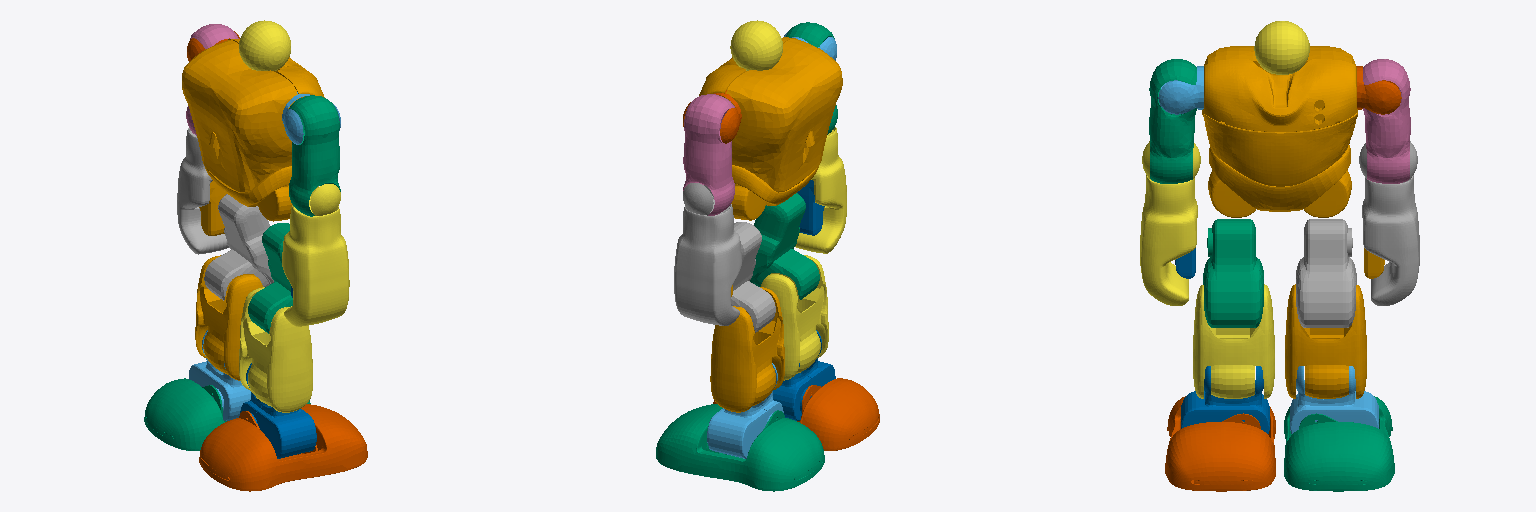
URDF robot description (alpha2):
<?xml version='1.0' encoding='us-ascii'?>
<robot name="alpha2">
  <link name="base_link">
    <inertial>
      <origin xyz="-0.00695734 6.2272e-05 0.0537448" rpy="0 0 0" />
      <mass value="0.42377" />
      <inertia ixx="6.0572e-04" ixy="-7.8223e-07" ixz="4.9743e-05" iyy="5.5233e-04" iyz="-2.4678e-07" izz="4.8452e-04" />
    </inertial>
    <visual>
      <origin xyz="0 0 0" rpy="0 0 0" />
      <geometry><mesh filename="./meshes_view/base_link.obj" /></geometry>
    </visual>
    <collision>
      <origin xyz="0 0 0" rpy="0 0 0" />
      <geometry><mesh filename="./meshes_view/base_link.stl" /></geometry>
    </collision>
  </link>
  <link name="r_shoulder_pitch_link">
    <inertial>
      <origin xyz="-9.69007e-05 0.00168751 -7.31857e-05" rpy="0 0 0" />
      <mass value="0.05261" />
      <inertia ixx="2.7041e-06" ixy="7.1916e-10" ixz="-1.9766e-09" iyy="2.0923e-06" iyz="4.5496e-09" izz="3.3369e-06" />
    </inertial>
    <visual>
      <origin xyz="0 0 0" rpy="0 0 0" />
      <geometry><mesh filename="./meshes_view/r_shoulder_pitch_link.obj" /></geometry>
    </visual>
    <collision>
      <origin xyz="0 0 0" rpy="0 0 0" />
      <geometry><mesh filename="./meshes_view/r_shoulder_pitch_link.stl" /></geometry>
    </collision>
  </link>
  
  <joint name="r_shoulder_pitch_joint" type="revolute">
    <parent link="base_link" />
    <child link="r_shoulder_pitch_link" />
    <origin xyz="0.00853421 -0.0751493 0.0823553" rpy="0 0 0" />
    <axis xyz="0 1 0" />
    <limit lower="-2.18166" upper="1.83260" effort="1.5" velocity="5.0" />
    <dynamics damping="0.05" friction="0.01" />
  </joint>
  <link name="r_shoulder_roll_link">
    <inertial>
      <origin xyz="0.000179782 -0.000686967 -0.0122808" rpy="0 0 0" />
      <mass value="0.07270" />
      <inertia ixx="3.7248e-05" ixy="1.6026e-08" ixz="2.0979e-08" iyy="3.6873e-05" iyz="-1.8396e-06" izz="6.0601e-06" />
    </inertial>
    <visual>
      <origin xyz="0 0 0" rpy="0 0 0" />
      <geometry><mesh filename="./meshes_view/r_shoulder_roll_link.obj" /></geometry>
    </visual>
    <collision>
      <origin xyz="0 0 0" rpy="0 0 0" />
      <geometry><mesh filename="./meshes_view/r_shoulder_roll_link.stl" /></geometry>
    </collision>
  </link>
  
  <joint name="r_shoulder_roll_joint" type="revolute">
    <parent link="r_shoulder_pitch_link" />
    <child link="r_shoulder_roll_link" />
    <origin xyz="-0.000936512 -0.000282395 -0.000471802" rpy="0 0 0" />
    <axis xyz="1 0 0" />
    <limit lower="-2.79253" upper="0.00000" effort="1.5" velocity="5.0" />
    <dynamics damping="0.05" friction="0.01" />
  </joint>
  <link name="r_elbow_link">
    <inertial>
      <origin xyz="-0.000214272 -0.000327578 -0.0300119" rpy="0 0 0" />
      <mass value="0.09679" />
      <inertia ixx="1.2699e-04" ixy="-1.3189e-08" ixz="-6.3118e-07" iyy="1.2786e-04" iyz="-1.9389e-06" izz="1.4446e-05" />
    </inertial>
    <visual>
      <origin xyz="0 0 0" rpy="0 0 0" />
      <geometry><mesh filename="./meshes_view/r_elbow_link.obj" /></geometry>
    </visual>
    <collision>
      <origin xyz="0 0 0" rpy="0 0 0" />
      <geometry><mesh filename="./meshes_view/r_elbow_link.stl" /></geometry>
    </collision>
  </link>
  
  <joint name="r_elbow_joint" type="revolute">
    <parent link="r_shoulder_roll_link" />
    <child link="r_elbow_link" />
    <origin xyz="0.000452387 -0.00483327 -0.0579653" rpy="0 0 0" />
    <axis xyz="0 -1 0" />
    <limit lower="-1.04720" upper="1.22173" effort="1.5" velocity="5.0" />
    <dynamics damping="0.05" friction="0.01" />
  </joint>
  <link name="r_hand_link">
    <inertial>
      <origin xyz="-2.11402e-10 0.000757251 -0.00167969" rpy="0 0 0" />
      <mass value="0.04764" />
      <inertia ixx="2.5262e-06" ixy="1.8442e-14" ixz="1.3892e-13" iyy="2.0373e-06" iyz="4.6415e-07" izz="9.6990e-07" />
    </inertial>
    <visual>
      <origin xyz="0 0 0" rpy="0 0 0" />
      <geometry><mesh filename="./meshes_view/r_hand_link.obj" /></geometry>
    </visual>
    <collision>
      <origin xyz="0 0 0" rpy="0 0 0" />
      <geometry><mesh filename="./meshes_view/r_hand_link.stl" /></geometry>
    </collision>
  </link>
  
  <joint name="r_hand_joint" type="revolute">
    <parent link="r_elbow_link" />
    <child link="r_hand_link" />
    <origin xyz="-0.00276682 0.000360121 -0.0558557" rpy="0 0 0" />
    <axis xyz="-1 0 0" />
    <limit lower="-0.43633" upper="0.08727" effort="1.5" velocity="5.0" />
    <dynamics damping="0.05" friction="0.01" />
  </joint>
  <link name="l_shoulder_pitch_link">
    <inertial>
      <origin xyz="-9.58837e-05 -0.00168757 0.000229636" rpy="0 0 0" />
      <mass value="0.05261" />
      <inertia ixx="2.7122e-06" ixy="-4.1326e-10" ixz="3.0346e-09" iyy="2.1004e-06" iyz="8.3426e-08" izz="3.3369e-06" />
    </inertial>
    <visual>
      <origin xyz="0 0 0" rpy="0 0 0" />
      <geometry><mesh filename="./meshes_view/l_shoulder_pitch_link.obj" /></geometry>
    </visual>
    <collision>
      <origin xyz="0 0 0" rpy="0 0 0" />
      <geometry><mesh filename="./meshes_view/l_shoulder_pitch_link.stl" /></geometry>
    </collision>
  </link>
  
  <joint name="l_shoulder_pitch_joint" type="revolute">
    <parent link="base_link" />
    <child link="l_shoulder_pitch_link" />
    <origin xyz="0.00852983 0.0751493 0.0810614" rpy="0 0 0" />
    <axis xyz="0 -1 0" />
    <limit lower="-1.83260" upper="2.18166" effort="1.5" velocity="5.0" />
    <dynamics damping="0.05" friction="0.01" />
  </joint>
  <link name="l_shoulder_roll_link">
    <inertial>
      <origin xyz="0.000179737 0.000686976 -0.0122806" rpy="0 0 0" />
      <mass value="0.07270" />
      <inertia ixx="3.7248e-05" ixy="-1.6007e-08" ixz="2.0962e-08" iyy="3.6873e-05" iyz="1.8397e-06" izz="6.0601e-06" />
    </inertial>
    <visual>
      <origin xyz="0 0 0" rpy="0 0 0" />
      <geometry><mesh filename="./meshes_view/l_shoulder_roll_link.obj" /></geometry>
    </visual>
    <collision>
      <origin xyz="0 0 0" rpy="0 0 0" />
      <geometry><mesh filename="./meshes_view/l_shoulder_roll_link.stl" /></geometry>
    </collision>
  </link>
  
  <joint name="l_shoulder_roll_joint" type="revolute">
    <parent link="l_shoulder_pitch_link" />
    <child link="l_shoulder_roll_link" />
    <origin xyz="-0.000932146 0.000282394 0.000822052" rpy="0 0 0" />
    <axis xyz="1 0 0" />
    <limit lower="0.00000" upper="2.79253" effort="1.5" velocity="5.0" />
    <dynamics damping="0.05" friction="0.01" />
  </joint>
  <link name="l_elbow_link">
    <inertial>
      <origin xyz="-0.000214255 0.00032756 -0.0300119" rpy="0 0 0" />
      <mass value="0.09679" />
      <inertia ixx="1.2699e-04" ixy="1.3193e-08" ixz="-6.3114e-07" iyy="1.2786e-04" iyz="1.9390e-06" izz="1.4446e-05" />
    </inertial>
    <visual>
      <origin xyz="0 0 0" rpy="0 0 0" />
      <geometry><mesh filename="./meshes_view/l_elbow_link.obj" /></geometry>
    </visual>
    <collision>
      <origin xyz="0 0 0" rpy="0 0 0" />
      <geometry><mesh filename="./meshes_view/l_elbow_link.stl" /></geometry>
    </collision>
  </link>
  
  <joint name="l_elbow_joint" type="revolute">
    <parent link="l_shoulder_roll_link" />
    <child link="l_elbow_link" />
    <origin xyz="0.000452416 0.00483327 -0.0579653" rpy="0 0 0" />
    <axis xyz="0 1 0" />
    <limit lower="-1.39626" upper="0.87266" effort="1.5" velocity="5.0" />
    <dynamics damping="0.05" friction="0.01" />
  </joint>
  <link name="l_hand_link">
    <inertial>
      <origin xyz="0.00329525 -0.000757255 -0.00166766" rpy="0 0 0" />
      <mass value="0.04764" />
      <inertia ixx="2.5156e-06" ixy="6.5294e-07" ixz="1.4379e-06" iyy="4.8681e-06" iyz="-4.6176e-07" izz="3.8111e-06" />
    </inertial>
    <visual>
      <origin xyz="0 0 0" rpy="0 0 0" />
      <geometry><mesh filename="./meshes_view/l_hand_link.obj" /></geometry>
    </visual>
    <collision>
      <origin xyz="0 0 0" rpy="0 0 0" />
      <geometry><mesh filename="./meshes_view/l_hand_link.stl" /></geometry>
    </collision>
  </link>
  
  <joint name="l_hand_joint" type="revolute">
    <parent link="l_elbow_link" />
    <child link="l_hand_link" />
    <origin xyz="-0.0241628 -0.000360123 -0.0559338" rpy="0 0 0" />
    <axis xyz="1 0 0" />
    <limit lower="-0.43633" upper="0.08727" effort="1.5" velocity="5.0" />
    <dynamics damping="0.05" friction="0.01" />
  </joint>
  <link name="r_hip_roll_link">
    <inertial>
      <origin xyz="0.00293013 -1.29545e-06 -0.00697382" rpy="0 0 0" />
      <mass value="0.07747" />
      <inertia ixx="1.7554e-05" ixy="5.7944e-10" ixz="3.3897e-06" iyy="1.8977e-05" iyz="1.6107e-11" izz="7.1847e-06" />
    </inertial>
    <visual>
      <origin xyz="0 0 0" rpy="0 0 0" />
      <geometry><mesh filename="./meshes_view/r_hip_roll_link.obj" /></geometry>
    </visual>
    <collision>
      <origin xyz="0 0 0" rpy="0 0 0" />
      <geometry><mesh filename="./meshes_view/r_hip_roll_link.stl" /></geometry>
    </collision>
  </link>
  
  <joint name="r_hip_roll_joint" type="revolute">
    <parent link="base_link" />
    <child link="r_hip_roll_link" />
    <origin xyz="1.52588e-08 -0.0353277 0.00188553" rpy="0 0 0" />
    <axis xyz="-1 0 0" />
    <limit lower="-0.34907" upper="1.39626" effort="1.5" velocity="5.0" />
    <dynamics damping="0.05" friction="0.01" />
  </joint>
  <link name="r_hip_pitch_link">
    <inertial>
      <origin xyz="0.0013449 0.0042168 -0.0136744" rpy="0 0 0" />
      <mass value="0.09681" />
      <inertia ixx="4.7328e-05" ixy="-6.9466e-07" ixz="2.4771e-06" iyy="4.9695e-05" iyz="6.9381e-06" izz="1.7177e-05" />
    </inertial>
    <visual>
      <origin xyz="0 0 0" rpy="0 0 0" />
      <geometry><mesh filename="./meshes_view/r_hip_pitch_link.obj" /></geometry>
    </visual>
    <collision>
      <origin xyz="0 0 0" rpy="0 0 0" />
      <geometry><mesh filename="./meshes_view/r_hip_pitch_link.stl" /></geometry>
    </collision>
  </link>
  
  <joint name="r_hip_pitch_joint" type="revolute">
    <parent link="r_hip_roll_link" />
    <child link="r_hip_pitch_link" />
    <origin xyz="0.00972791 -0.00802065 -0.0438724" rpy="0 0 0" />
    <axis xyz="0 1 0" />
    <limit lower="-0.95993" upper="2.53073" effort="1.5" velocity="5.0" />
    <dynamics damping="0.05" friction="0.01" />
  </joint>
  <link name="r_knee_link">
    <inertial>
      <origin xyz="0.00079019 0.00484693 -0.0172073" rpy="0 0 0" />
      <mass value="0.10587" />
      <inertia ixx="7.5406e-05" ixy="-4.0426e-07" ixz="1.5768e-06" iyy="6.5065e-05" iyz="8.7855e-06" izz="2.1814e-05" />
    </inertial>
    <visual>
      <origin xyz="0 0 0" rpy="0 0 0" />
      <geometry><mesh filename="./meshes_view/r_knee_link.obj" /></geometry>
    </visual>
    <collision>
      <origin xyz="0 0 0" rpy="0 0 0" />
      <geometry><mesh filename="./meshes_view/r_knee_link.stl" /></geometry>
    </collision>
  </link>
  
  <joint name="r_knee_joint" type="revolute">
    <parent link="r_hip_pitch_link" />
    <child link="r_knee_link" />
    <origin xyz="-0.0117411 0 -0.0525105" rpy="0 0 0" />
    <axis xyz="0 -1 0" />
    <limit lower="-2.00713" upper="1.39626" effort="1.5" velocity="5.0" />
    <dynamics damping="0.05" friction="0.01" />
  </joint>
  <link name="r_ankle_pitch_link">
    <inertial>
      <origin xyz="-0.000219723 0.0022855 -0.00886757" rpy="0 0 0" />
      <mass value="0.08919" />
      <inertia ixx="3.2163e-05" ixy="1.4539e-07" ixz="-4.3003e-07" iyy="2.4535e-05" iyz="1.4269e-06" izz="1.3860e-05" />
    </inertial>
    <visual>
      <origin xyz="0 0 0" rpy="0 0 0" />
      <geometry><mesh filename="./meshes_view/r_ankle_pitch_link.obj" /></geometry>
    </visual>
    <collision>
      <origin xyz="0 0 0" rpy="0 0 0" />
      <geometry><mesh filename="./meshes_view/r_ankle_pitch_link.stl" /></geometry>
    </collision>
  </link>
  
  <joint name="r_ankle_pitch_joint" type="revolute">
    <parent link="r_knee_link" />
    <child link="r_ankle_pitch_link" />
    <origin xyz="5.32532e-06 0 -0.0591983" rpy="0 0 0" />
    <axis xyz="0 -1 0" />
    <limit lower="-1.83260" upper="1.30900" effort="1.5" velocity="5.0" />
    <dynamics damping="0.05" friction="0.01" />
  </joint>
  <link name="r_ankle_roll_link">
    <inertial>
      <origin xyz="0.000326272 -0.0100259 -0.00758217" rpy="0 0 0" />
      <mass value="0.14069" />
      <inertia ixx="5.9503e-05" ixy="1.1368e-06" ixz="4.8165e-07" iyy="1.0262e-04" iyz="-7.0862e-06" izz="1.3503e-04" />
    </inertial>
    <visual>
      <origin xyz="0 0 0" rpy="0 0 0" />
      <geometry><mesh filename="./meshes_view/r_ankle_roll_link.obj" /></geometry>
    </visual>
    <collision>
      <origin xyz="0 0 0" rpy="0 0 0" />
      <geometry><mesh filename="./meshes_view/r_ankle_roll_link.stl" /></geometry>
    </collision>
  </link>
  
  <joint name="r_ankle_roll_joint" type="revolute">
    <parent link="r_ankle_pitch_link" />
    <child link="r_ankle_roll_link" />
    <origin xyz="0.00200788 0.0168256 -0.0369769" rpy="0 0 0" />
    <axis xyz="1 0 0" />
    <limit lower="-0.34907" upper="1.22173" effort="1.5" velocity="5.0" />
    <dynamics damping="0.05" friction="0.01" />
  </joint>
  <link name="l_hip_roll_link">
    <inertial>
      <origin xyz="0.00293011 1.33522e-06 -0.00697379" rpy="0 0 0" />
      <mass value="0.07747" />
      <inertia ixx="1.7553e-05" ixy="-5.9611e-10" ixz="3.3897e-06" iyy="1.8977e-05" iyz="-5.8296e-11" izz="7.1846e-06" />
    </inertial>
    <visual>
      <origin xyz="0 0 0" rpy="0 0 0" />
      <geometry><mesh filename="./meshes_view/l_hip_roll_link.obj" /></geometry>
    </visual>
    <collision>
      <origin xyz="0 0 0" rpy="0 0 0" />
      <geometry><mesh filename="./meshes_view/l_hip_roll_link.stl" /></geometry>
    </collision>
  </link>
  
  <joint name="l_hip_roll_joint" type="revolute">
    <parent link="base_link" />
    <child link="l_hip_roll_link" />
    <origin xyz="7.62939e-09 0.0353277 0.00188553" rpy="0 0 0" />
    <axis xyz="-1 0 0" />
    <limit lower="-1.43117" upper="0.31416" effort="1.5" velocity="5.0" />
    <dynamics damping="0.05" friction="0.01" />
  </joint>
  <link name="l_hip_pitch_link">
    <inertial>
      <origin xyz="0.00134489 -0.0042168 -0.0136745" rpy="0 0 0" />
      <mass value="0.09681" />
      <inertia ixx="4.7328e-05" ixy="6.9467e-07" ixz="2.4771e-06" iyy="4.9694e-05" iyz="-6.9381e-06" izz="1.7177e-05" />
    </inertial>
    <visual>
      <origin xyz="0 0 0" rpy="0 0 0" />
      <geometry><mesh filename="./meshes_view/l_hip_pitch_link.obj" /></geometry>
    </visual>
    <collision>
      <origin xyz="0 0 0" rpy="0 0 0" />
      <geometry><mesh filename="./meshes_view/l_hip_pitch_link.stl" /></geometry>
    </collision>
  </link>
  
  <joint name="l_hip_pitch_joint" type="revolute">
    <parent link="l_hip_roll_link" />
    <child link="l_hip_pitch_link" />
    <origin xyz="0.00972792 0.00802064 -0.0438723" rpy="0 0 0" />
    <axis xyz="0 -1 0" />
    <limit lower="-2.53073" upper="0.95993" effort="1.5" velocity="5.0" />
    <dynamics damping="0.05" friction="0.01" />
  </joint>
  <link name="l_knee_link">
    <inertial>
      <origin xyz="0.00079021 -0.00484695 -0.0172073" rpy="0 0 0" />
      <mass value="0.10587" />
      <inertia ixx="7.5406e-05" ixy="4.0427e-07" ixz="1.5769e-06" iyy="6.5065e-05" iyz="-8.7855e-06" izz="2.1814e-05" />
    </inertial>
    <visual>
      <origin xyz="0 0 0" rpy="0 0 0" />
      <geometry><mesh filename="./meshes_view/l_knee_link.obj" /></geometry>
    </visual>
    <collision>
      <origin xyz="0 0 0" rpy="0 0 0" />
      <geometry><mesh filename="./meshes_view/l_knee_link.stl" /></geometry>
    </collision>
  </link>
  
  <joint name="l_knee_joint" type="revolute">
    <parent link="l_hip_pitch_link" />
    <child link="l_knee_link" />
    <origin xyz="-0.0117411 1.39965e-09 -0.0525105" rpy="0 0 0" />
    <axis xyz="0 1 0" />
    <limit lower="-1.39626" upper="2.00713" effort="1.5" velocity="5.0" />
    <dynamics damping="0.05" friction="0.01" />
  </joint>
  <link name="l_ankle_pitch_link">
    <inertial>
      <origin xyz="-0.000219719 -0.00228551 -0.00879294" rpy="0 0 0" />
      <mass value="0.08919" />
      <inertia ixx="3.1992e-05" ixy="-1.4538e-07" ixz="-4.2791e-07" iyy="2.4364e-05" iyz="-1.4048e-06" izz="1.3860e-05" />
    </inertial>
    <visual>
      <origin xyz="0 0 0" rpy="0 0 0" />
      <geometry><mesh filename="./meshes_view/l_ankle_pitch_link.obj" /></geometry>
    </visual>
    <collision>
      <origin xyz="0 0 0" rpy="0 0 0" />
      <geometry><mesh filename="./meshes_view/l_ankle_pitch_link.stl" /></geometry>
    </collision>
  </link>
  
  <joint name="l_ankle_pitch_joint" type="revolute">
    <parent link="l_knee_link" />
    <child link="l_ankle_pitch_link" />
    <origin xyz="5.35583e-06 -6.38468e-13 -0.0593814" rpy="0 0 0" />
    <axis xyz="0 1 0" />
    <limit lower="-1.30900" upper="1.83260" effort="1.5" velocity="5.0" />
    <dynamics damping="0.05" friction="0.01" />
  </joint>
  <link name="l_ankle_roll_link">
    <inertial>
      <origin xyz="0.000327938 0.0100278 -0.00758019" rpy="0 0 0" />
      <mass value="0.14066" />
      <inertia ixx="5.9495e-05" ixy="-1.1337e-06" ixz="4.8455e-07" iyy="1.0253e-04" iyz="7.0896e-06" izz="1.3495e-04" />
    </inertial>
    <visual>
      <origin xyz="0 0 0" rpy="0 0 0" />
      <geometry><mesh filename="./meshes_view/l_ankle_roll_link.obj" /></geometry>
    </visual>
    <collision>
      <origin xyz="0 0 0" rpy="0 0 0" />
      <geometry><mesh filename="./meshes_view/l_ankle_roll_link.stl" /></geometry>
    </collision>
  </link>
  
  <joint name="l_ankle_roll_joint" type="revolute">
    <parent link="l_ankle_pitch_link" />
    <child link="l_ankle_roll_link" />
    <origin xyz="0.00200786 -0.0168256 -0.0367939" rpy="0 0 0" />
    <axis xyz="1 0 0" />
    <limit lower="-1.22173" upper="0.34907" effort="1.5" velocity="5.0" />
    <dynamics damping="0.05" friction="0.01" />
  </joint>
  <link name="head_yaw_link">
    <inertial>
      <origin xyz="-4.99536e-10 -2.09224e-05 8.70789e-10" rpy="0 0 0" />
      <mass value="0.05123" />
      <inertia ixx="1.7989e-06" ixy="3.4591e-13" ixz="3.5406e-13" iyy="1.7930e-06" iyz="-3.6802e-13" izz="1.7989e-06" />
    </inertial>
    <visual>
      <origin xyz="0 0 0" rpy="0 0 0" />
      <geometry><mesh filename="./meshes_view/head_yaw_link.obj" /></geometry>
    </visual>
    <collision>
      <origin xyz="0 0 0" rpy="0 0 0" />
      <geometry><mesh filename="./meshes_view/head_yaw_link.stl" /></geometry>
    </collision>
  </link>
  
  <joint name="head_yaw_joint" type="revolute">
    <parent link="base_link" />
    <child link="head_yaw_link" />
    <origin xyz="0.0100771 0.00165642 0.115073" rpy="0 0 0" />
    <axis xyz="0 0 -1" />
    <limit lower="-0.78540" upper="0.78540" effort="1.5" velocity="5.0" />
    <dynamics damping="0.05" friction="0.01" />
  </joint>
  <link name="head_pitch_link">
    <inertial>
      <origin xyz="0.00142943 -0.0016621 0.038033" rpy="0 0 0" />
      <mass value="0.26548" />
      <inertia ixx="3.7061e-04" ixy="2.4509e-06" ixz="2.7567e-06" iyy="3.5697e-04" iyz="-1.5211e-05" izz="2.6951e-04" />
    </inertial>
    <visual>
      <origin xyz="0 0 0" rpy="0 0 0" />
      <geometry><mesh filename="./meshes_view/head_pitch_link.obj" /></geometry>
    </visual>
    <collision>
      <origin xyz="0 0 0" rpy="0 0 0" />
      <geometry><mesh filename="./meshes_view/head_pitch_link.stl" /></geometry>
    </collision>
  </link>
  
  <joint name="head_pitch_joint" type="revolute">
    <parent link="head_yaw_link" />
    <child link="head_pitch_link" />
    <origin xyz="-0.00621756 3.48091e-08 -0.000771606" rpy="0 0 0" />
    <axis xyz="0 1 0" />
    <limit lower="-0.26180" upper="0.61087" effort="1.5" velocity="5.0" />
    <dynamics damping="0.05" friction="0.01" />
  </joint>

  
  <link name="r_sole_frame" />
  <joint name="r_sole_frame_joint" type="fixed">
    <parent link="r_ankle_roll_link" />
    <child link="r_sole_frame" />
    <origin xyz="0.005153 -0.014847 -0.027969" rpy="0 0 0" />
  </joint>
  <link name="l_sole_frame" />
  <joint name="l_sole_frame_joint" type="fixed">
    <parent link="l_ankle_roll_link" />
    <child link="l_sole_frame" />
    <origin xyz="0.000202 0.009880 -0.027222" rpy="0 0 0" />
  </joint>
  <link name="r_hand_tip" />
  <joint name="r_hand_tip_joint" type="fixed">
    <parent link="r_hand_link" />
    <child link="r_hand_tip" />
    <origin xyz="0.000475 0.011671 -0.038763" rpy="0 0 0" />
  </joint>
  <link name="l_hand_tip" />
  <joint name="l_hand_tip_joint" type="fixed">
    <parent link="l_hand_link" />
    <child link="l_hand_tip" />
    <origin xyz="0.021756 -0.011977 -0.038685" rpy="0 0 0" />
  </joint>
  
  <link name="base_footprint" />
  <joint name="base_footprint_joint" type="fixed">
    <parent link="base_footprint" />
    <child link="base_link" />
    <origin xyz="0 0 0.218642" rpy="0 0 0" />
  </joint>

  
  <link name="camera_link" />
  <joint name="camera_joint" type="fixed">
    <parent link="head_pitch_link" />
    <child link="camera_link" />
    <origin xyz="0.053 0 0.04937" rpy="0 0 0" />
  </joint>
  <link name="camera_optical_frame" />
  <joint name="camera_optical_joint" type="fixed">
    <parent link="camera_link" />
    <child link="camera_optical_frame" />
    <origin xyz="0 0 0" rpy="-1.5707963 0 -1.5707963" />
  </joint>

  
  <link name="accel_link" />
  <joint name="accel_joint" type="fixed">
    <parent link="head_pitch_link" />
    <child link="accel_link" />
    <origin xyz="0.00142943 -0.0016621 0.038033" rpy="0 0 0" />
  </joint>
</robot>

--- Render facts (derived) ---
3 views of the same robot in one strip: view 1: azimuth 30°, elevation 25°; view 2: azimuth 150°, elevation 25°; view 3: azimuth 270°, elevation 25° (orthographic).
Robot: alpha2 — 29 links, 28 joints (20 revolute, 8 fixed); root link base_footprint; default pose: all joints at 0.
Visible links, largest first — view 1: base_link, r_ankle_roll_link, r_elbow_link, r_knee_link, r_shoulder_roll_link, l_ankle_roll_link, l_knee_link, l_hip_pitch_link, l_elbow_link, r_ankle_pitch_link, r_hip_pitch_link, head_yaw_link (+4 smaller); view 2: base_link, l_ankle_roll_link, l_elbow_link, l_knee_link, l_shoulder_roll_link, r_ankle_roll_link, r_knee_link, r_hip_pitch_link, r_elbow_link, l_ankle_pitch_link, l_hip_pitch_link, head_yaw_link (+4 smaller); view 3: base_link, r_ankle_roll_link, l_ankle_roll_link, r_elbow_link, l_elbow_link, r_knee_link, l_knee_link, r_hip_pitch_link, l_hip_pitch_link, l_shoulder_roll_link, r_shoulder_roll_link, r_ankle_pitch_link (+4 smaller).
Link boxes in pixels (x1=…): base_link: x1=182, y1=39, x2=324, y2=221; r_ankle_roll_link: x1=199, y1=404, x2=367, y2=491; r_elbow_link: x1=282, y1=184, x2=349, y2=326; r_knee_link: x1=239, y1=287, x2=312, y2=412; r_shoulder_roll_link: x1=289, y1=95, x2=340, y2=216; l_ankle_roll_link: x1=144, y1=378, x2=310, y2=450; l_knee_link: x1=195, y1=255, x2=262, y2=380; l_hip_pitch_link: x1=204, y1=194, x2=273, y2=300; l_elbow_link: x1=177, y1=128, x2=228, y2=254; r_ankle_pitch_link: x1=240, y1=363, x2=316, y2=458; r_hip_pitch_link: x1=248, y1=223, x2=292, y2=333; head_yaw_link: x1=239, y1=20, x2=290, y2=70; base_link: x1=699, y1=37, x2=842, y2=220; l_ankle_roll_link: x1=656, y1=404, x2=824, y2=491; l_elbow_link: x1=674, y1=183, x2=741, y2=325; l_knee_link: x1=710, y1=287, x2=784, y2=412; l_shoulder_roll_link: x1=683, y1=94, x2=734, y2=215; r_ankle_roll_link: x1=713, y1=378, x2=879, y2=450; r_knee_link: x1=761, y1=255, x2=828, y2=380; r_hip_pitch_link: x1=750, y1=193, x2=819, y2=299; r_elbow_link: x1=795, y1=127, x2=846, y2=253; l_ankle_pitch_link: x1=707, y1=363, x2=783, y2=458; l_hip_pitch_link: x1=731, y1=222, x2=775, y2=332; head_yaw_link: x1=730, y1=20, x2=782, y2=70; base_link: x1=1202, y1=46, x2=1357, y2=217; r_ankle_roll_link: x1=1165, y1=396, x2=1275, y2=491; l_ankle_roll_link: x1=1284, y1=396, x2=1394, y2=491; r_elbow_link: x1=1140, y1=141, x2=1200, y2=305; l_elbow_link: x1=1359, y1=141, x2=1419, y2=305; r_knee_link: x1=1193, y1=284, x2=1274, y2=398; l_knee_link: x1=1285, y1=284, x2=1366, y2=398; r_hip_pitch_link: x1=1203, y1=219, x2=1263, y2=327; l_hip_pitch_link: x1=1296, y1=219, x2=1356, y2=327; l_shoulder_roll_link: x1=1363, y1=59, x2=1410, y2=183; r_shoulder_roll_link: x1=1149, y1=59, x2=1196, y2=183; r_ankle_pitch_link: x1=1181, y1=366, x2=1269, y2=433.
Bounding box of the posed robot: 0.1278 × 0.2053 × 0.3541 m (x, y, z).
Meshes: 21 distinct files referenced, 18 mesh visuals loaded (18 OBJ); not drawn: 3 (reference not matched to a file when rendering).
